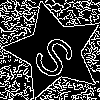S: (29, 26, 85, 83)
